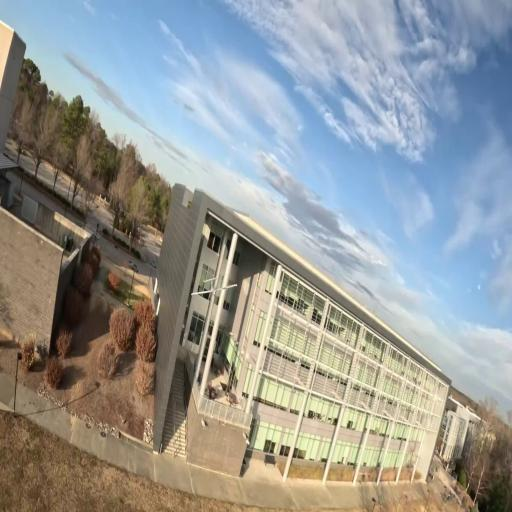uav: (190, 266, 239, 308)
